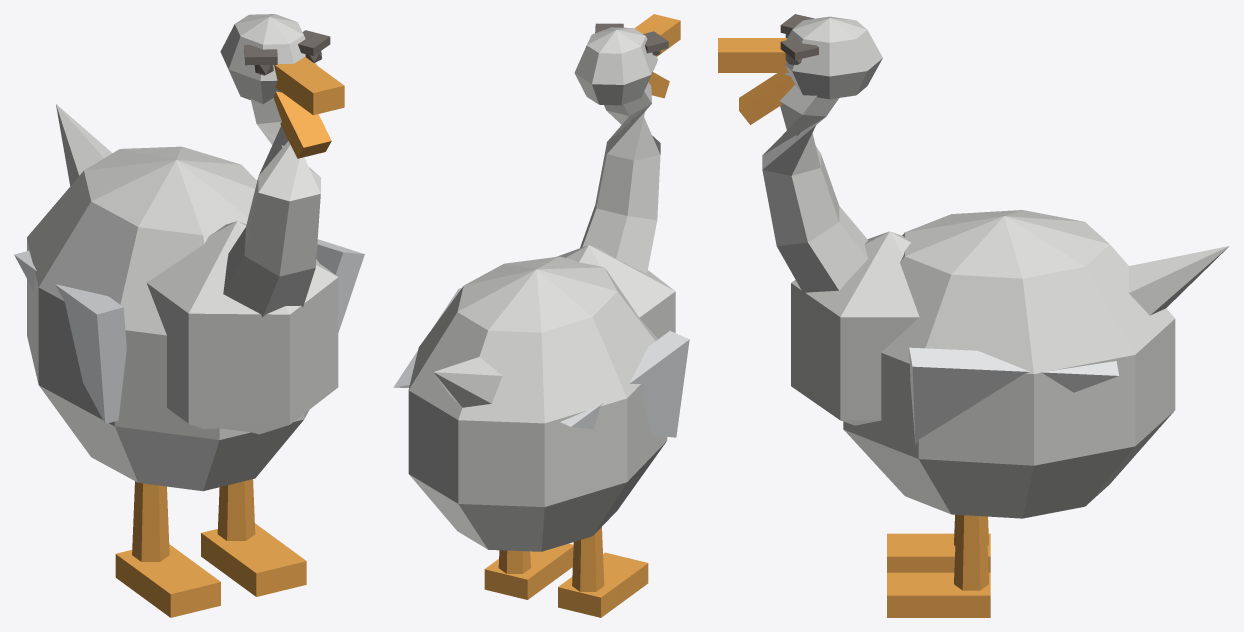
File: goose_guard_v1.glb
The picture shows the model from 3 angles, left to right: view 1: azimuth 30°, elevation 25°; view 2: azimuth 150°, elevation 25°; view 3: azimuth 270°, elevation 25°; orthographic projection. The views are drawn at different scales.
Visible parts, largest first — view 1: Body, Chest, Neck, Wing.-1, Foot.-1, Foot.1, Head, Shank.-1, BeakUp, BeakDown, Shank.1, Tail (+3 smaller); view 2: Body, Neck, Head, Wing.-1, Chest, Foot.-1, Foot.1, Tail, Shank.-1, BeakUp, Shank.1, Wing.1; view 3: Body, Chest, Neck, Wing.1, Head, Foot.1, Tail, Foot.-1, Shank.1, BeakUp, BeakDown.
Part boxes in pixels (bbox=[...]): Body: bbox=[27, 146, 318, 491]; Chest: bbox=[147, 221, 338, 434]; Neck: bbox=[223, 98, 320, 317]; Wing.-1: bbox=[14, 250, 126, 423]; Foot.-1: bbox=[115, 544, 220, 617]; Foot.1: bbox=[201, 523, 306, 596]; Head: bbox=[220, 14, 317, 104]; Shank.-1: bbox=[132, 481, 169, 561]; BeakUp: bbox=[274, 57, 344, 115]; BeakDown: bbox=[273, 91, 331, 158]; Shank.1: bbox=[217, 479, 255, 540]; Tail: bbox=[56, 104, 112, 185]; Body: bbox=[408, 256, 667, 551]; Neck: bbox=[580, 82, 660, 273]; Head: bbox=[574, 27, 657, 105]; Wing.-1: bbox=[560, 331, 689, 437]; Chest: bbox=[556, 245, 675, 339]; Foot.-1: bbox=[558, 552, 648, 617]; Foot.1: bbox=[484, 543, 573, 599]; Tail: bbox=[433, 357, 502, 407]; Shank.-1: bbox=[572, 527, 604, 591]; BeakUp: bbox=[634, 14, 680, 56]; Shank.1: bbox=[498, 550, 530, 573]; Wing.1: bbox=[393, 288, 461, 387]; Body: bbox=[843, 210, 1175, 518]; Chest: bbox=[791, 231, 919, 425]; Neck: bbox=[762, 85, 868, 294]; Wing.1: bbox=[909, 347, 1118, 446]; Head: bbox=[785, 16, 882, 99]; Foot.1: bbox=[887, 572, 990, 617]; Tail: bbox=[1128, 246, 1229, 315]; Foot.-1: bbox=[887, 533, 990, 572]; Shank.1: bbox=[954, 515, 988, 590]; BeakUp: bbox=[718, 38, 788, 72]; BeakDown: bbox=[739, 73, 794, 124].
Size of the model in its own units: 0.5337 by 1.15 by 0.9391.
